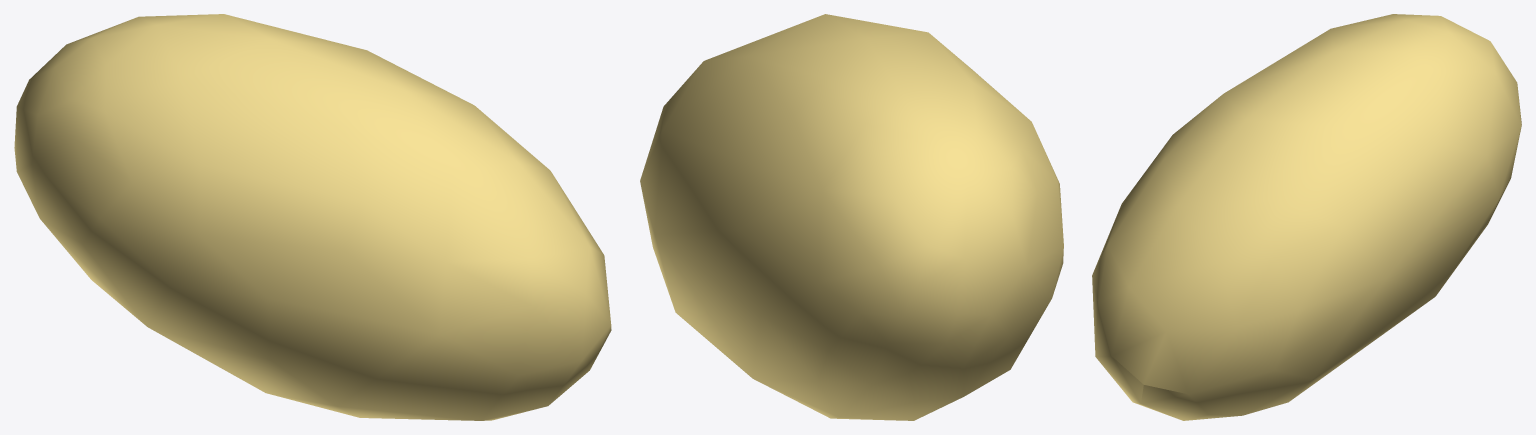
The model's file is fma53550_fj1288.glb.
The picture shows the model from 3 angles, left to right: view 1: azimuth 30°, elevation 25°; view 2: azimuth 150°, elevation 25°; view 3: azimuth 270°, elevation 25°; orthographic projection. The views are drawn at different scales.
Visible parts, largest first — view 1: FMA53550_FJ1288; view 2: FMA53550_FJ1288; view 3: FMA53550_FJ1288.
Part boxes in pixels (x1,y1,x2,y2): FMA53550_FJ1288: (14, 14, 611, 420); FMA53550_FJ1288: (640, 14, 1063, 420); FMA53550_FJ1288: (1092, 14, 1521, 420).
Bounding box in the file's own units: 0.00322 × 0.00256 × 0.00322.
